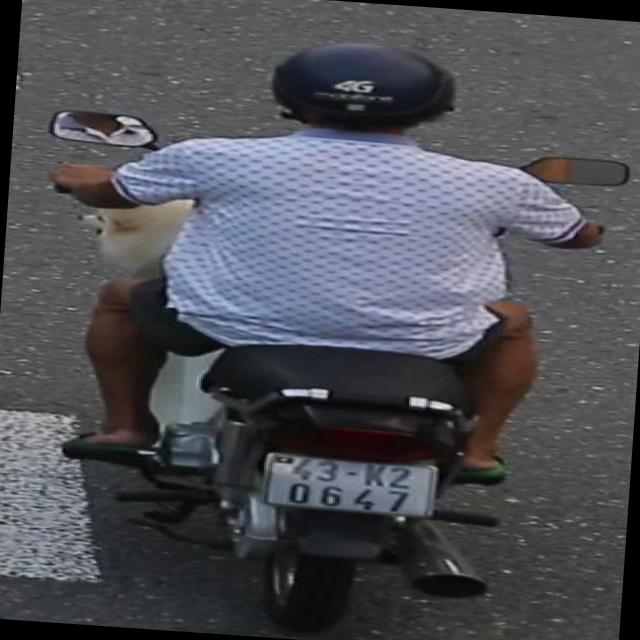LP: (252, 446, 448, 523)
helmet: (258, 29, 474, 154)
